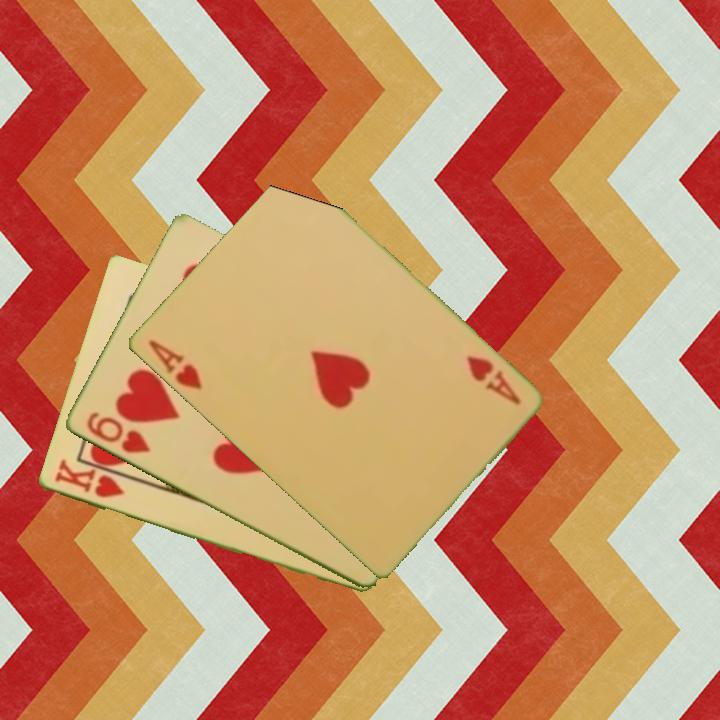6h: (82, 408, 152, 457)
Ah: (144, 336, 205, 393), (462, 352, 523, 408)
Kh: (50, 456, 127, 502)
